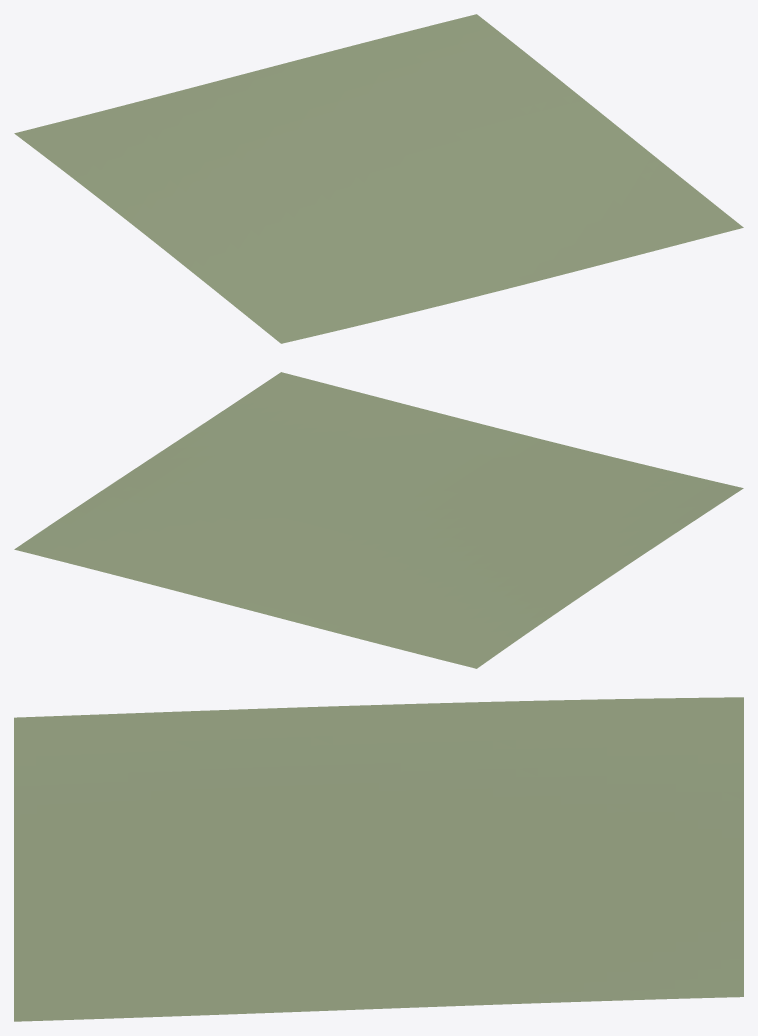
File: expanse-4-2.glb
3 renders of one model, top to bottom at view 1: azimuth 30°, elevation 25°; view 2: azimuth 150°, elevation 25°; view 3: azimuth 270°, elevation 25°, orthographic. The views are drawn at different scales.
Parts seen in each view (by area): view 1: expanse-4-2; view 2: expanse-4-2; view 3: expanse-4-2.
Part boxes in pixels (<box>): expanse-4-2: <box>14,14,743,343</box>; expanse-4-2: <box>14,372,743,668</box>; expanse-4-2: <box>14,697,743,1021</box>.
Bounding box in the file's own units: 256 × 11.67 × 256.
